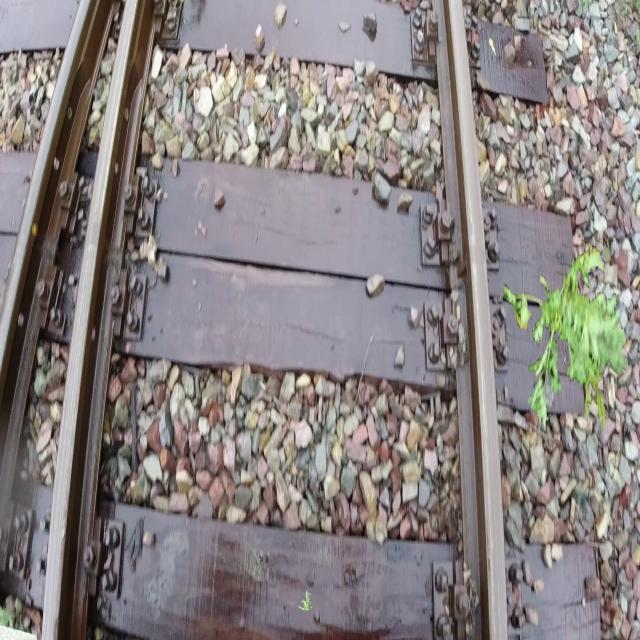Plant: (504, 239, 629, 435), (299, 590, 313, 610)
